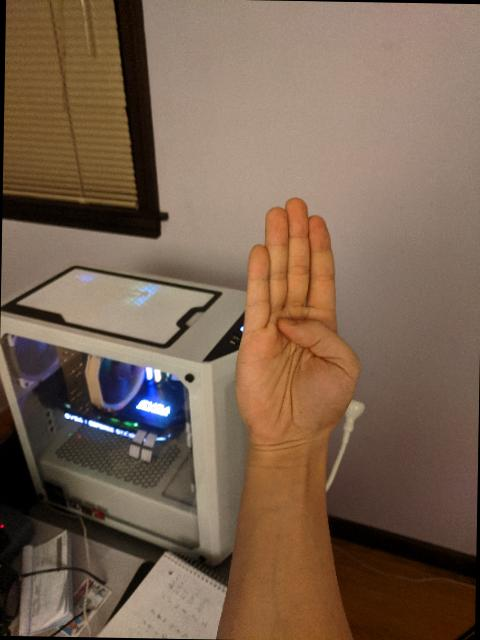B: (228, 192, 368, 456)
